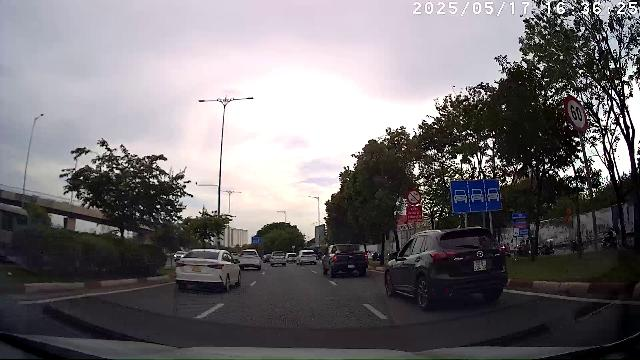127-toc-do-toi-da-60: (564, 95, 588, 133)
